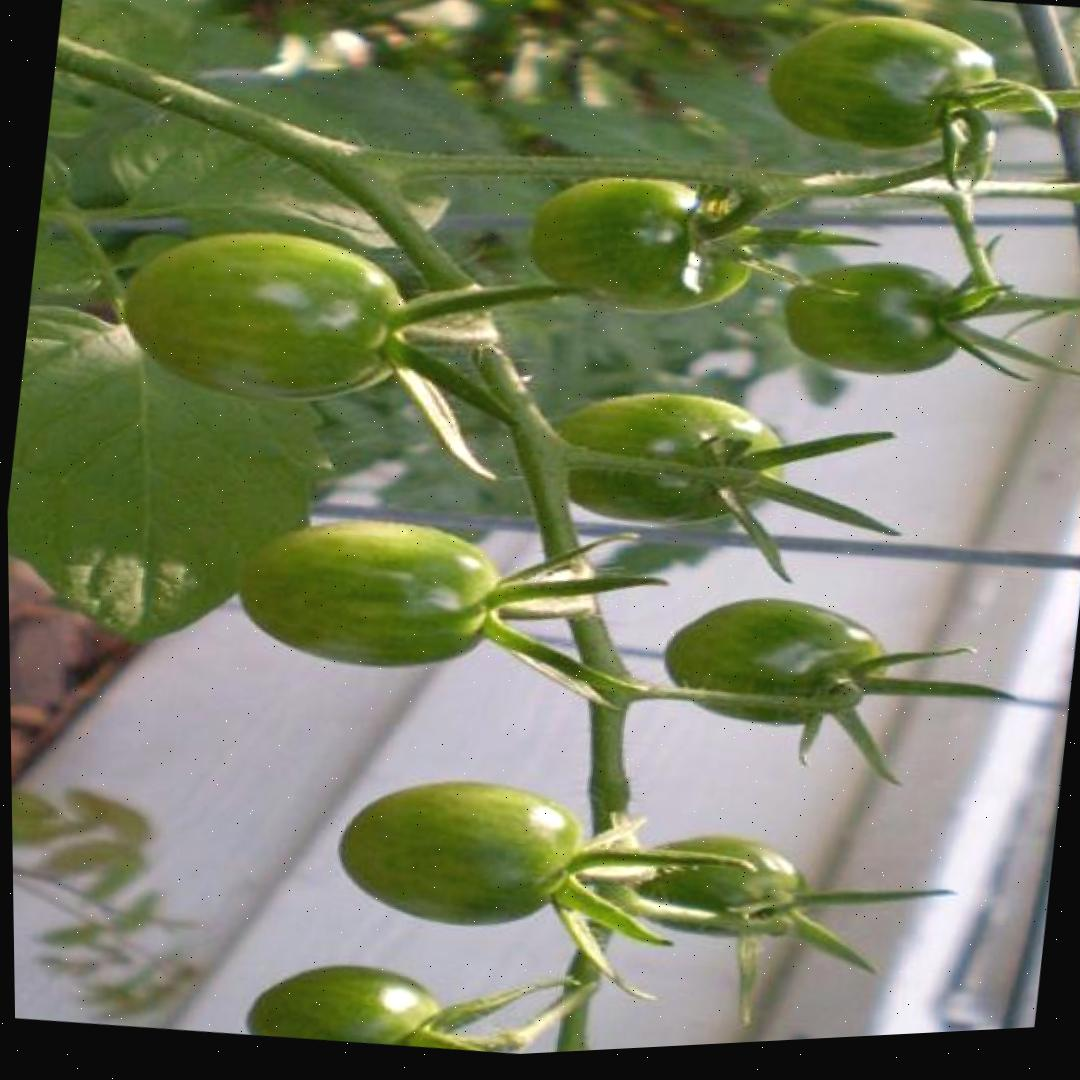mentah: (109, 205, 424, 425), (231, 493, 515, 688), (523, 365, 802, 546), (332, 755, 595, 941), (518, 157, 768, 329), (653, 575, 898, 743), (763, 0, 1006, 166), (774, 242, 975, 389), (613, 814, 818, 953), (248, 945, 449, 1058)
